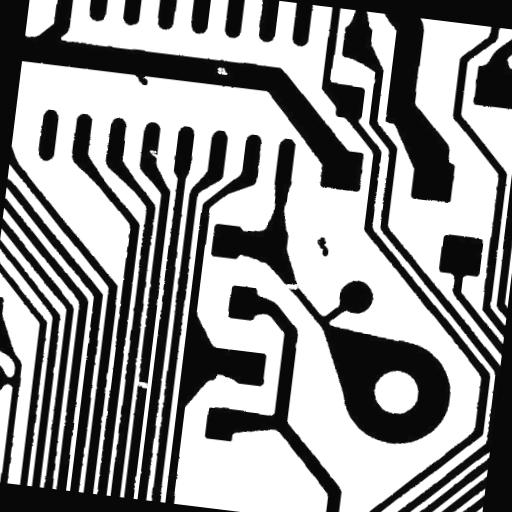copper: (307, 228, 338, 265)
mousebite: (140, 141, 166, 166)
open: (276, 270, 310, 298), (128, 372, 158, 396)
pin-hole: (208, 59, 236, 83)
spur: (126, 64, 157, 94)
